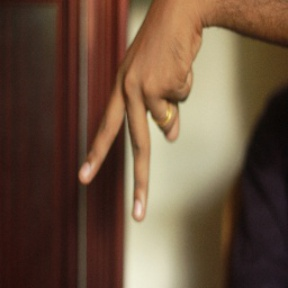Y: (76, 53, 193, 222)
